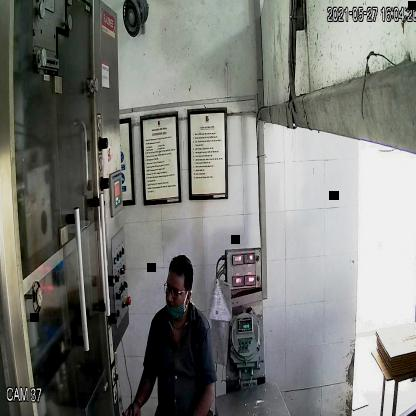goggles: (163, 278, 191, 304)
